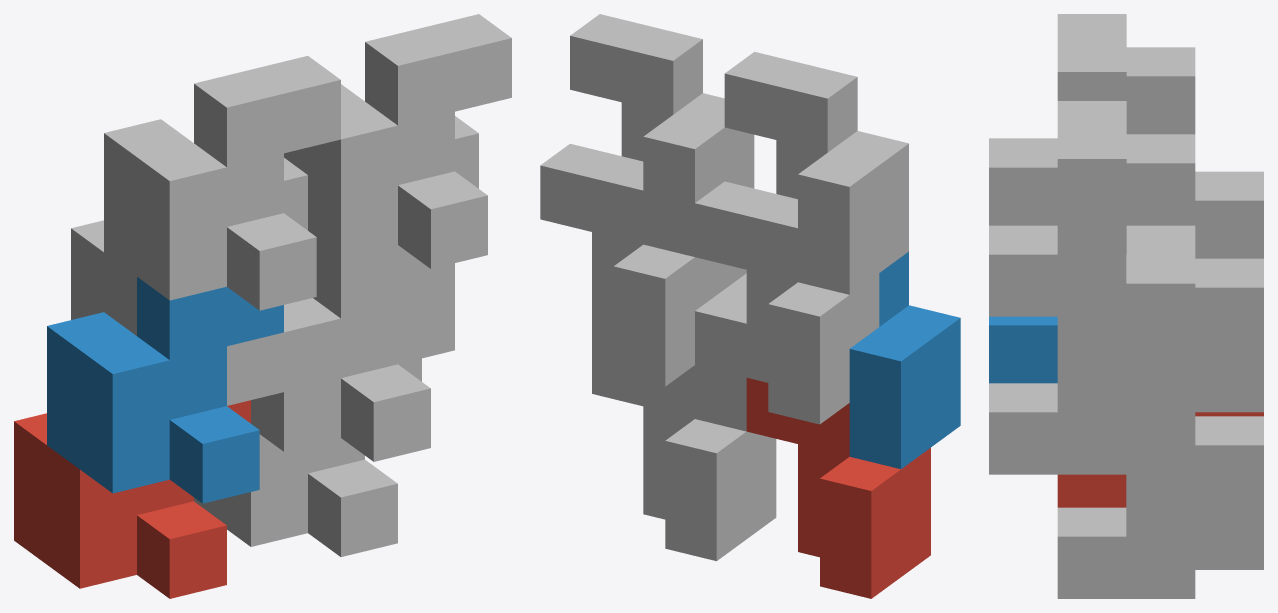
The model's file is tiling.obj.
The picture shows the model from 3 angles, left to right: view 1: azimuth 30°, elevation 25°; view 2: azimuth 150°, elevation 25°; view 3: azimuth 270°, elevation 25°; orthographic projection. The views are drawn at different scales.
Parts seen in each view (by area): view 1: copy_1_domain_4, copy_1_domain_2, copy_1_domain_8, copy_1_domain_6, copy_1_domain_1, copy_1_domain_5, copy_1_domain_3, copy_1_domain_7; view 2: copy_1_domain_4, copy_1_domain_8, copy_1_domain_3, copy_1_domain_7, copy_1_domain_1, copy_1_domain_5, copy_1_domain_2, copy_1_domain_6; view 3: copy_1_domain_7, copy_1_domain_5, copy_1_domain_8, copy_1_domain_4, copy_1_domain_6, copy_1_domain_3, copy_1_domain_2, copy_1_domain_1.
Part boxes in pixels (x1=…): copy_1_domain_4: x1=104, y1=56, x2=340, y2=310; copy_1_domain_2: x1=47, y1=277, x2=283, y2=503; copy_1_domain_8: x1=284, y1=14, x2=511, y2=268; copy_1_domain_6: x1=251, y1=241, x2=454, y2=461; copy_1_domain_1: x1=14, y1=400, x2=250, y2=598; copy_1_domain_5: x1=194, y1=358, x2=421, y2=556; copy_1_domain_3: x1=71, y1=158, x2=307, y2=405; copy_1_domain_7: x1=398, y1=116, x2=478, y2=364; copy_1_domain_4: x1=724, y1=51, x2=908, y2=294; copy_1_domain_8: x1=570, y1=14, x2=754, y2=256; copy_1_domain_3: x1=695, y1=181, x2=879, y2=424; copy_1_domain_7: x1=540, y1=143, x2=724, y2=386; copy_1_domain_1: x1=746, y1=378, x2=930, y2=598; copy_1_domain_5: x1=592, y1=340, x2=776, y2=561; copy_1_domain_2: x1=849, y1=251, x2=960, y2=468; copy_1_domain_6: x1=695, y1=264, x2=746, y2=431; copy_1_domain_7: x1=1057, y1=225, x2=1263, y2=441; copy_1_domain_5: x1=1057, y1=416, x2=1263, y2=598; copy_1_domain_8: x1=989, y1=101, x2=1195, y2=316; copy_1_domain_4: x1=989, y1=14, x2=1195, y2=225; copy_1_domain_6: x1=989, y1=316, x2=1126, y2=474; copy_1_domain_3: x1=1195, y1=171, x2=1263, y2=258; copy_1_domain_2: x1=989, y1=316, x2=1057, y2=383; copy_1_domain_1: x1=1057, y1=412, x2=1263, y2=507.
Bounding box in the file's own units: 7 × 8 × 4.
